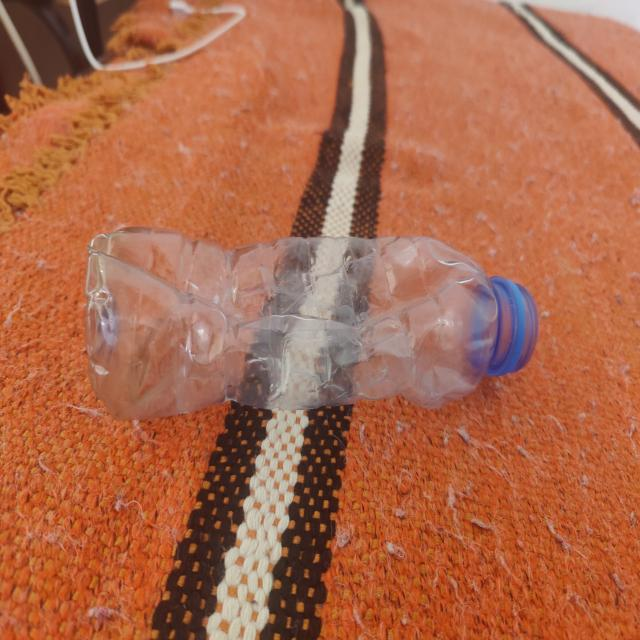plastic: (90, 225, 537, 418)
